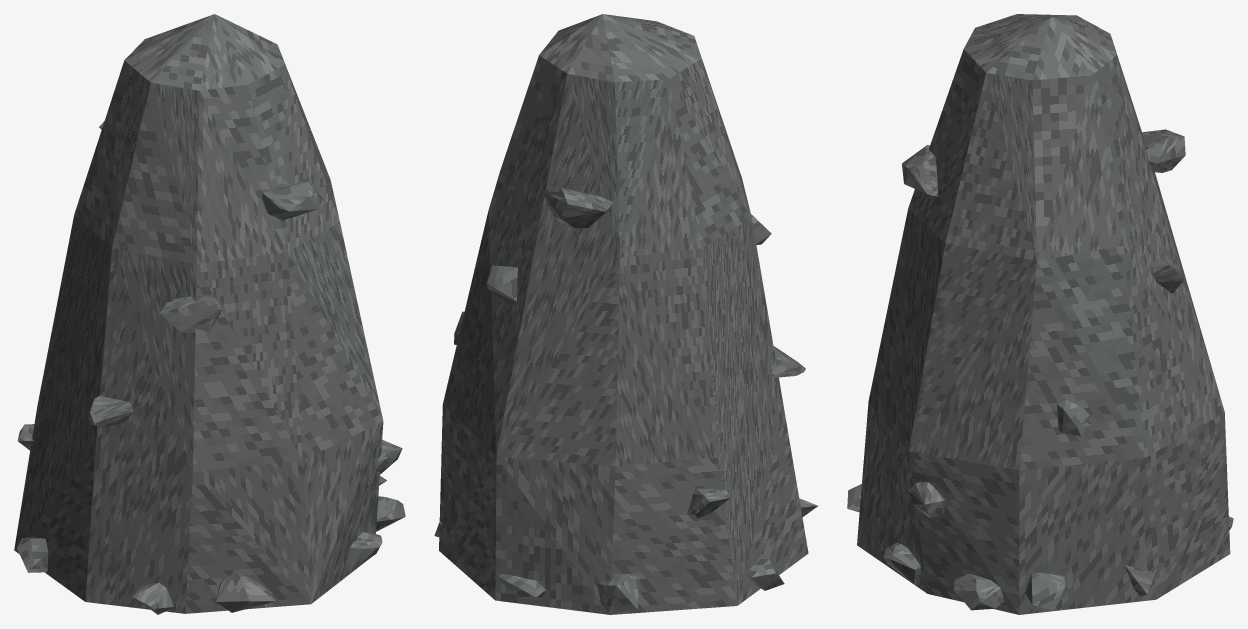
The model's file is f_rock_mound_mid.glb.
The picture shows the model from 3 angles, left to right: view 1: azimuth 30°, elevation 25°; view 2: azimuth 150°, elevation 25°; view 3: azimuth 270°, elevation 25°; orthographic projection.
Visible parts, largest first — view 1: block_heaped-rock, block_loose-rock (×8); view 2: block_heaped-rock, block_loose-rock (×7); view 3: block_heaped-rock, block_loose-rock (×9).
Boxes of the visible parts, x1,y1,x2,y2 form: block_heaped-rock: [14, 14, 383, 613]; block_loose-rock (×8): [17, 182, 405, 614]; block_heaped-rock: [439, 14, 808, 614]; block_loose-rock (×7): [487, 188, 805, 613]; block_heaped-rock: [857, 14, 1230, 614]; block_loose-rock (×9): [883, 129, 1185, 611].
Bounding box in the file's own units: 0.9168 × 1.31 × 0.869.
Materials: 1 (1 with a texture image).
